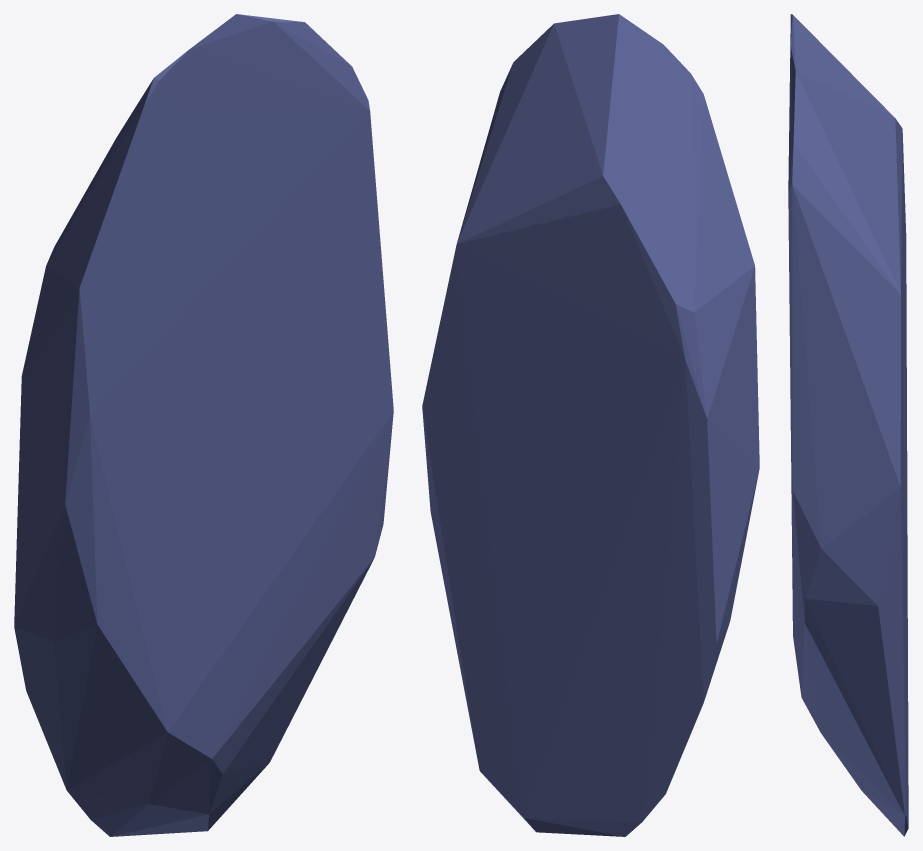
File: food_prepared_baguette_e01.glb
3 views of the same model, side by side, from view 1: azimuth 30°, elevation 25°; view 2: azimuth 150°, elevation 25°; view 3: azimuth 270°, elevation 25° (orthographic). The views are drawn at different scales.
Visible parts, largest first — view 1: geometry_0; view 2: geometry_0; view 3: geometry_0.
Part boxes in pixels (box(x1,y1,x2,y2)): geometry_0: box(14, 14, 393, 836); geometry_0: box(422, 14, 759, 836); geometry_0: box(788, 14, 908, 836).
Bounding box in the file's own units: 0.1885 × 0.4749 × 0.0641.
